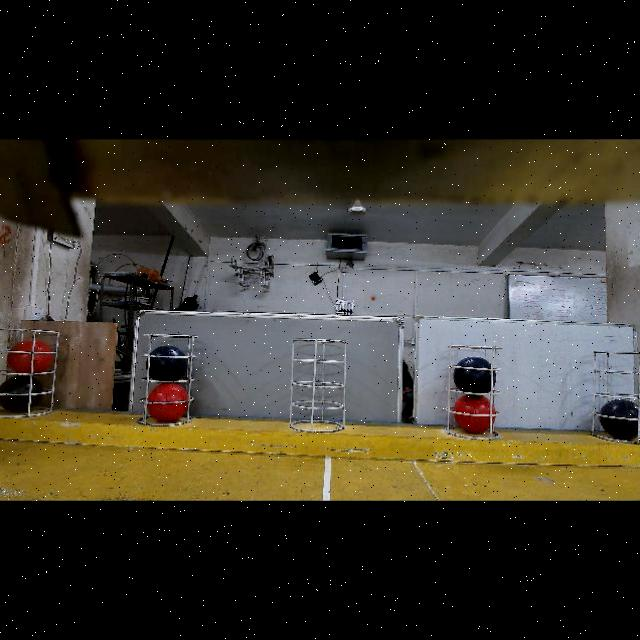P: (453, 357, 497, 397), (599, 400, 640, 440), (0, 376, 43, 413), (146, 346, 187, 382)
R: (454, 396, 496, 434), (7, 340, 52, 374), (149, 384, 187, 423)
S: (440, 347, 498, 449), (290, 340, 344, 438), (0, 334, 64, 416), (136, 333, 194, 422), (588, 354, 640, 434)
